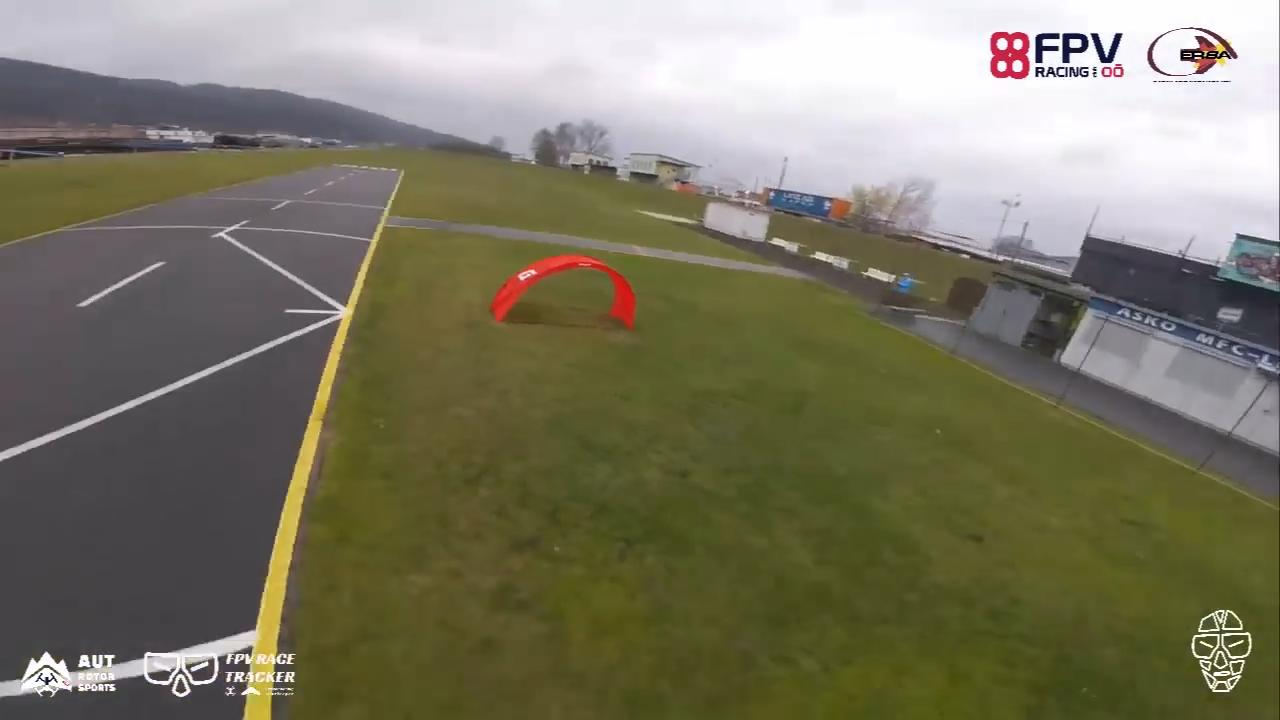gate: (488, 248, 641, 328)
